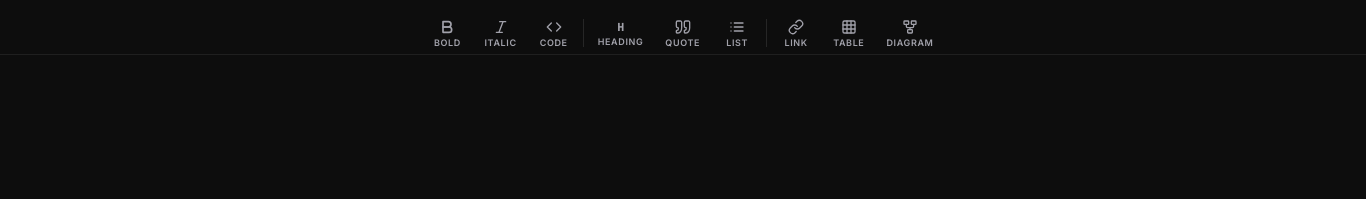
FormattingToolbar Link button › no selection: clicking Link opens the link popover
Click the button "Link" at (796, 33), box [770,12,822,54]
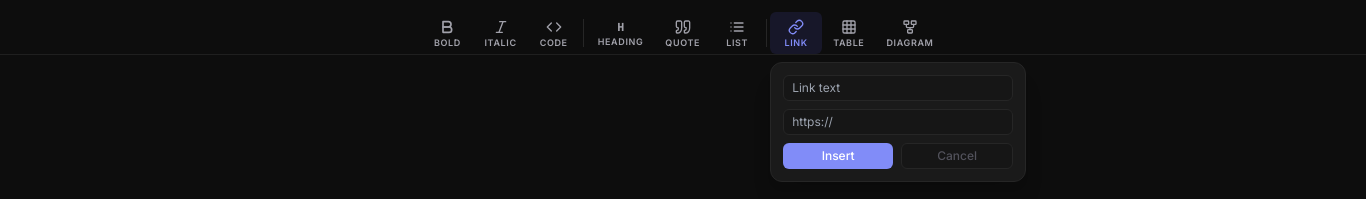
Expected: the element with test id "link-popover" is shown, [770,62,1026,182]
